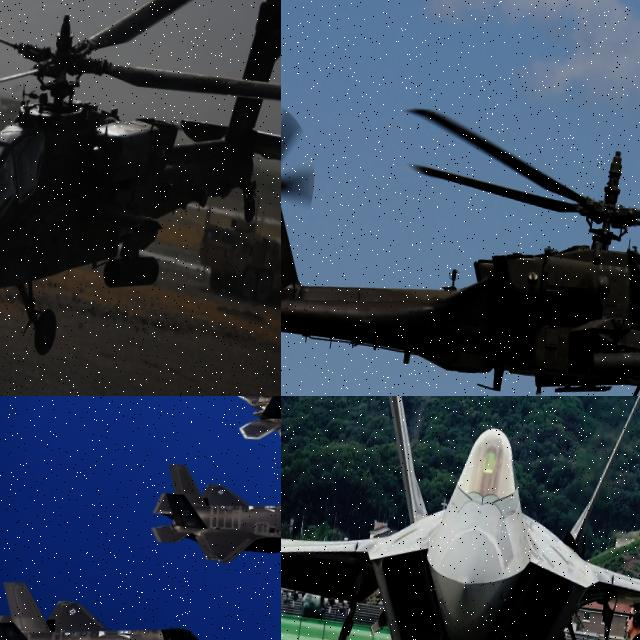Apache: (281, 85, 640, 396), (0, 0, 281, 389)
F22: (281, 396, 640, 640), (145, 458, 281, 591), (0, 576, 243, 640)
